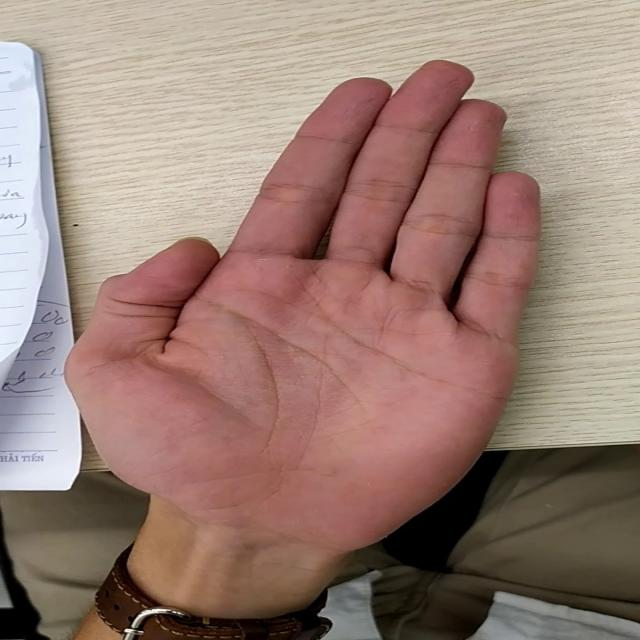hand: (62, 79, 516, 515)
